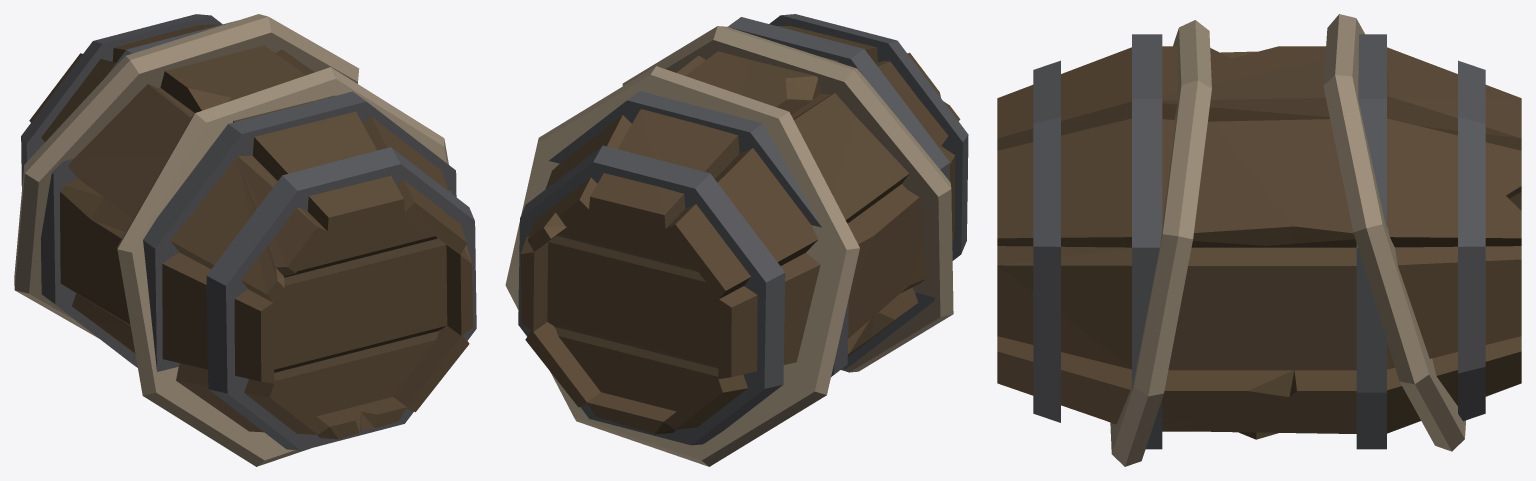
The model's file is barrel.glb.
The picture shows the model from 3 angles, left to right: view 1: azimuth 30°, elevation 25°; view 2: azimuth 150°, elevation 25°; view 3: azimuth 270°, elevation 25°; orthographic projection. The views are drawn at different scales.
Parts seen in each view (by area): view 1: SM_Veh_Extra_Barrel_01; view 2: SM_Veh_Extra_Barrel_01; view 3: SM_Veh_Extra_Barrel_01.
Boxes of the visible parts, x1=… form: SM_Veh_Extra_Barrel_01: x1=14, y1=14, x2=476, y2=466; SM_Veh_Extra_Barrel_01: x1=505, y1=14, x2=968, y2=466; SM_Veh_Extra_Barrel_01: x1=997, y1=14, x2=1521, y2=466.
Size of the model in its own units: 1.14 by 1.12 by 1.37.
Materials: 1 (1 with a texture image).
